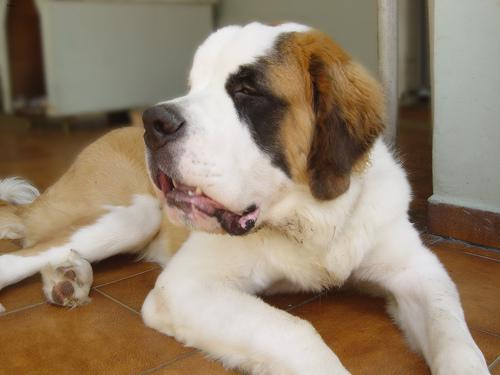dog-saint_bernard: (141, 22, 385, 233)
